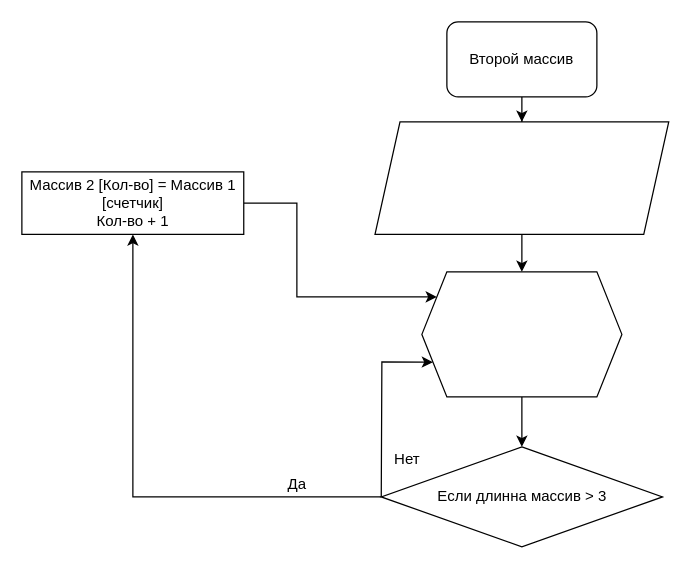
Image size: 691x569. Some labels were removed from this diagram. Here are the shapes that lost their labels. From the top down, the centre of each, then its label:
At [521,177]: "На входе Массив 1 Массив 2 Натуральное число для подсчета количества".
At [521,334]: "Цикл работает до тех пор пока длинна первого массив больше счетчика".
